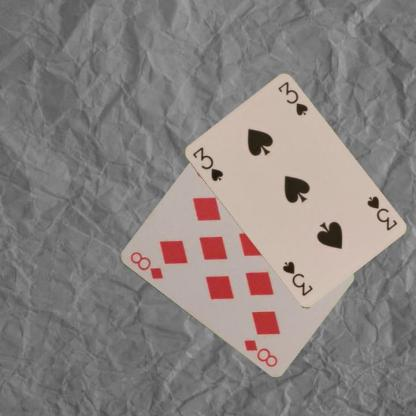3s: (364, 193, 398, 232), (190, 144, 224, 182)
8d: (127, 249, 164, 281)
